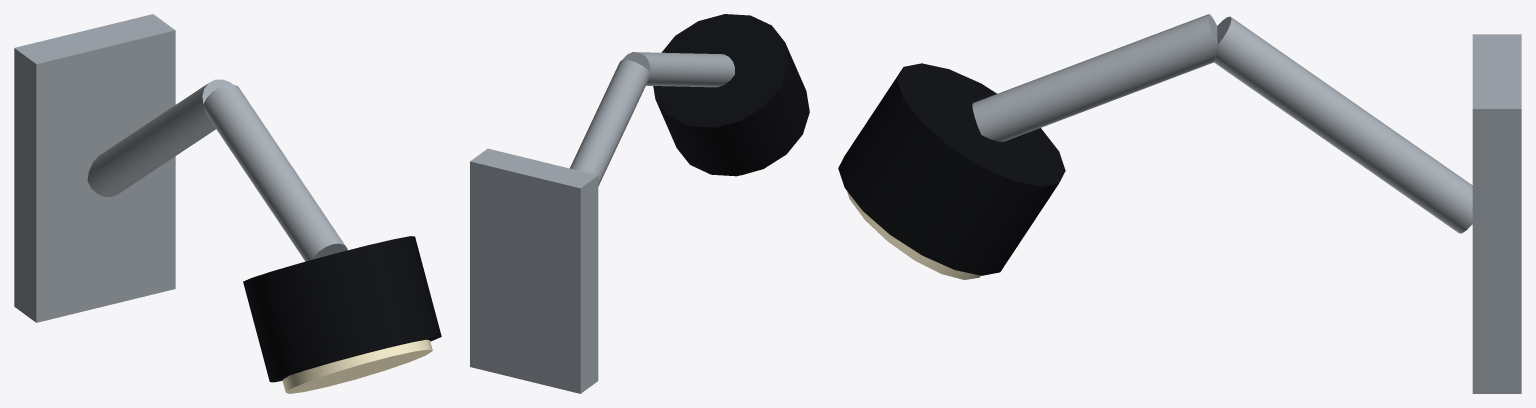
Rendered from Fali_olvasolampa.obj.
3 renders of one model, left to right at view 1: azimuth 30°, elevation 25°; view 2: azimuth 150°, elevation 25°; view 3: azimuth 270°, elevation 25°, orthographic. The views are drawn at different scales.
Size of the model in its own units: 0.1 by 0.1911 by 0.3479.
